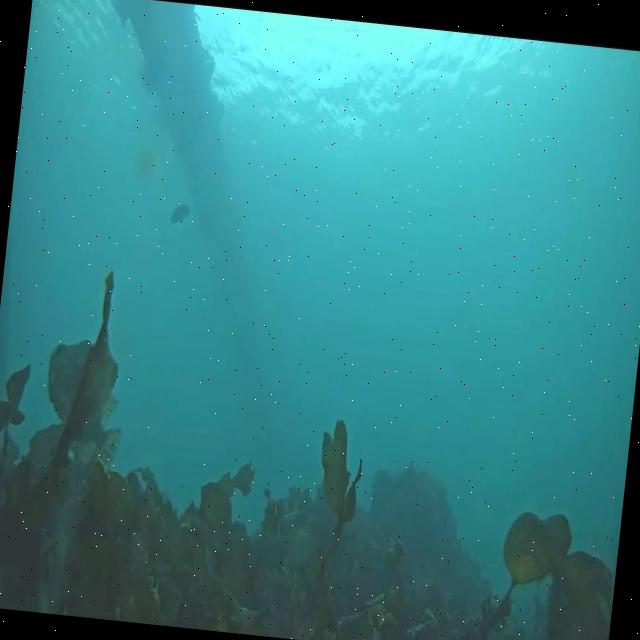fish: (170, 201, 193, 228)
